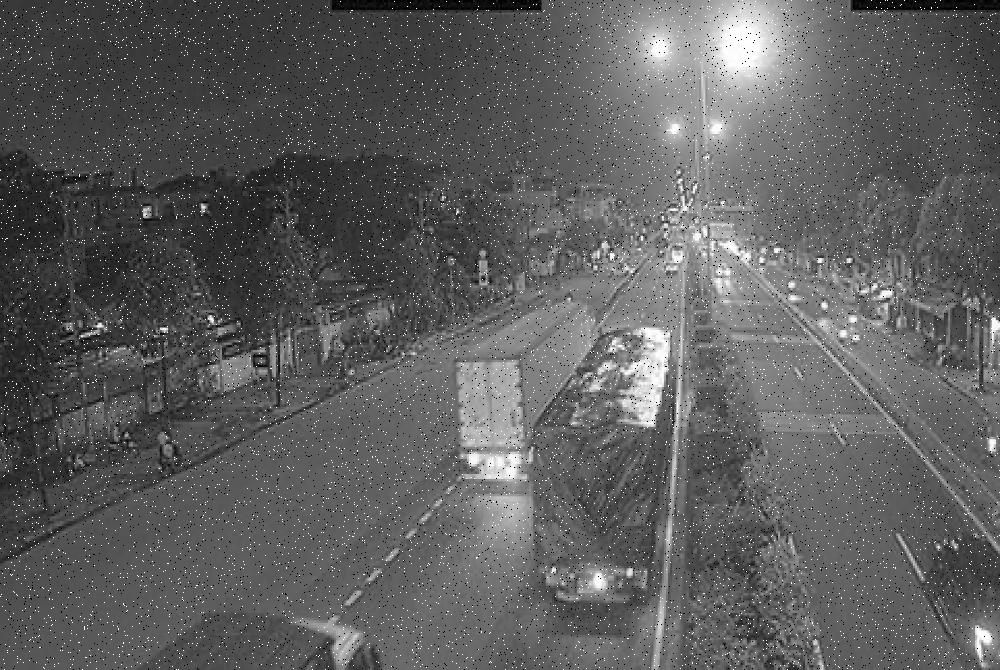truck: (532, 326, 674, 606), (455, 299, 601, 492), (108, 610, 382, 670)
